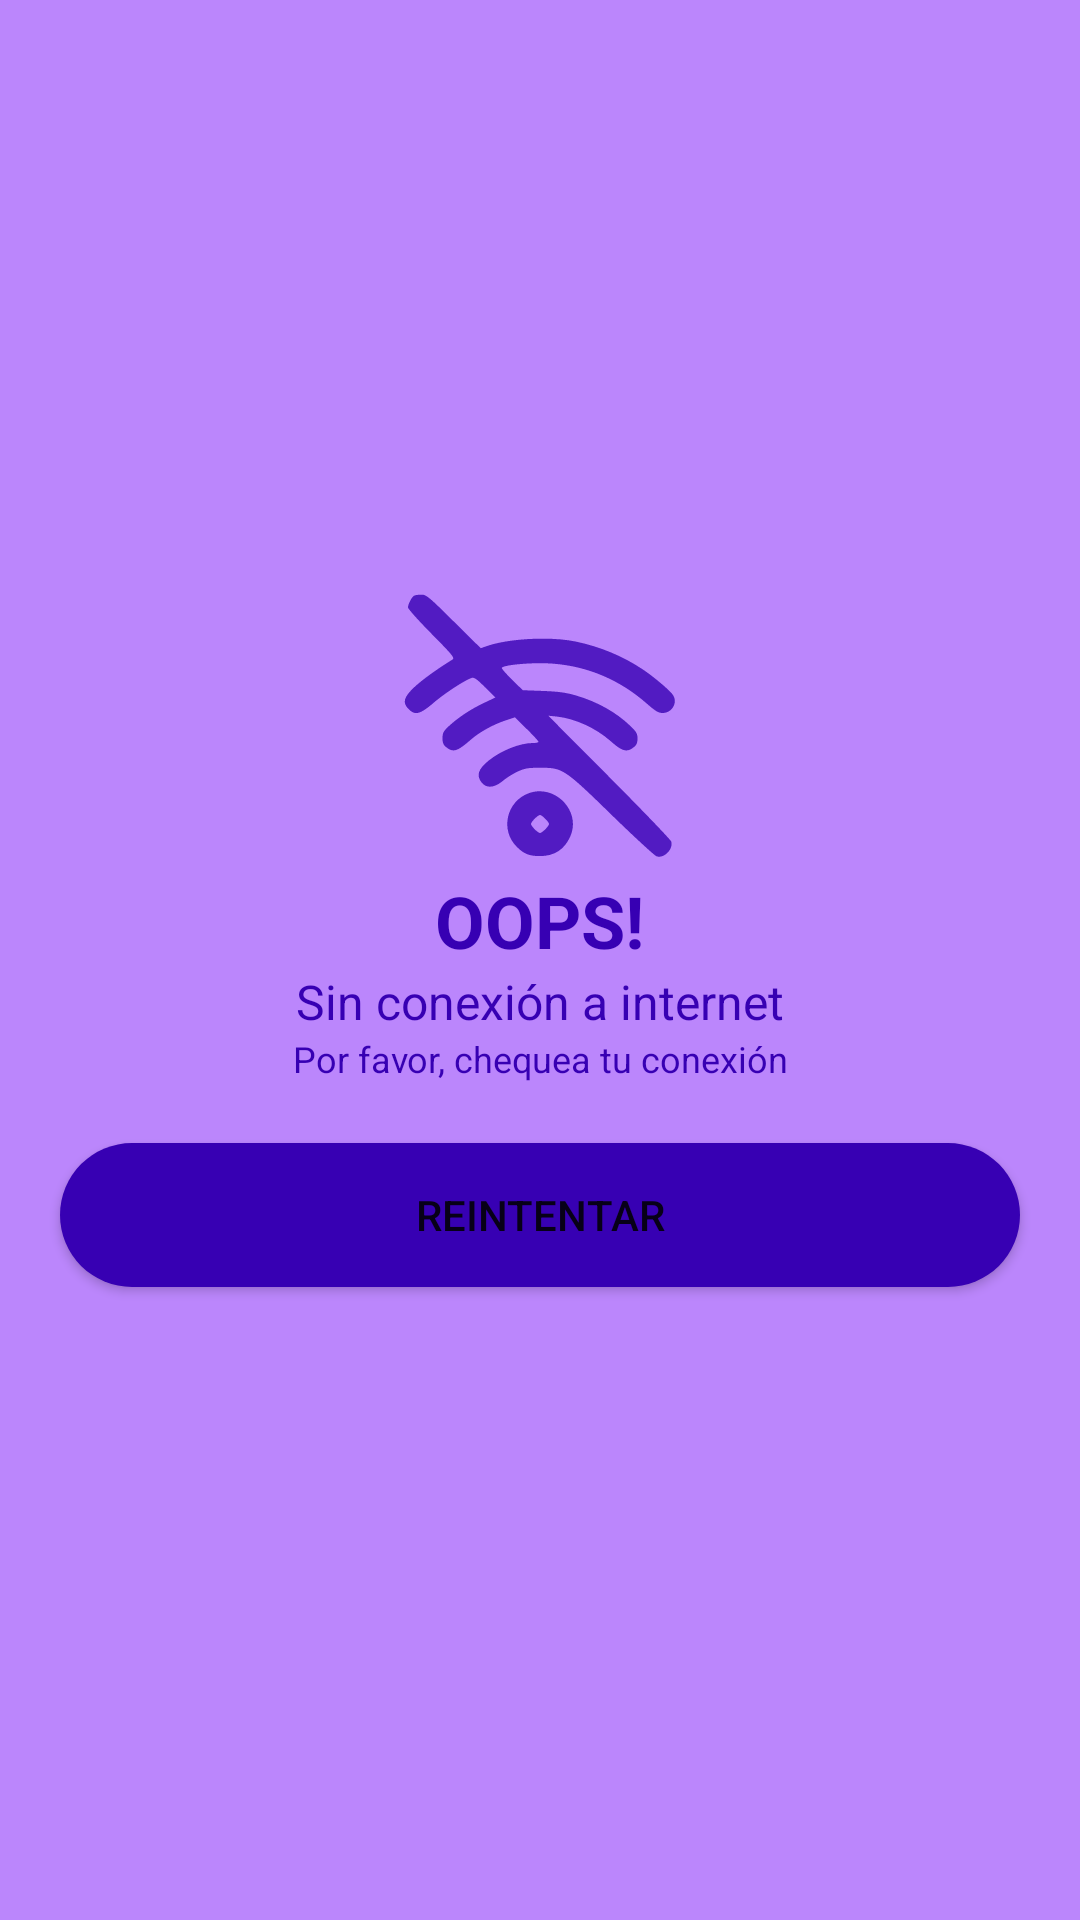

Screen size 1080px x 1920px. Icon name, then its center in pixels as [x,y]:
nowifi: [539,725]
